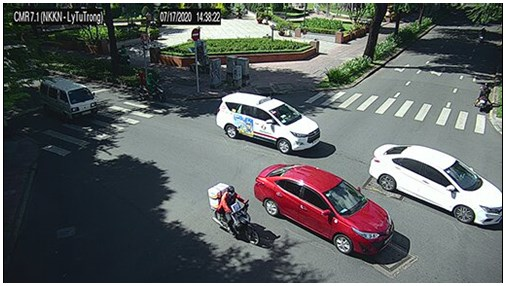xe_hoi: (254, 163, 394, 257), (369, 144, 502, 226)
xe_khach: (37, 77, 100, 123)
xe_may: (207, 182, 262, 246), (138, 73, 167, 103), (476, 82, 493, 113)
xe_taxi: (216, 91, 322, 155)
